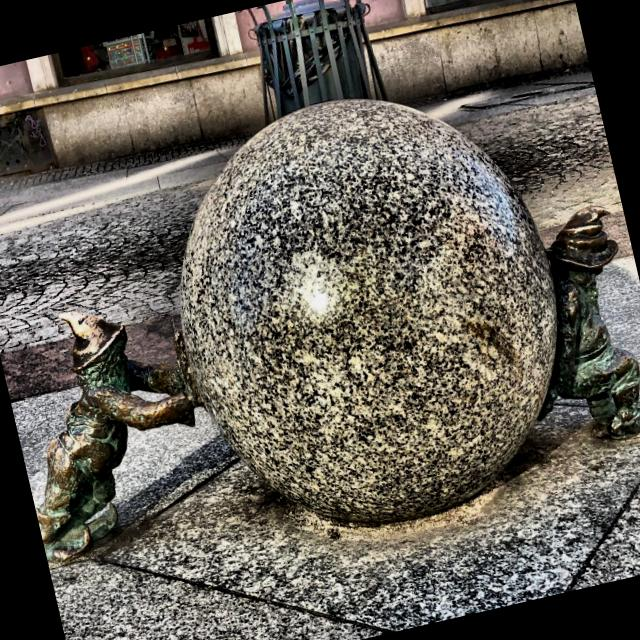Syzyfki: (0, 35, 640, 616)
